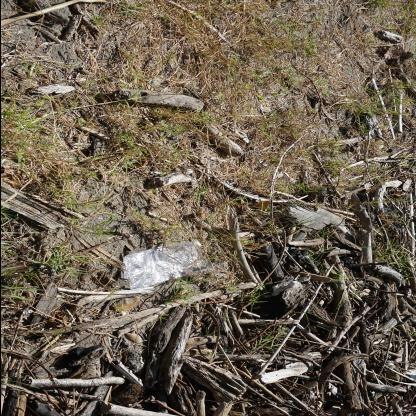plastik: (124, 242, 208, 292)
